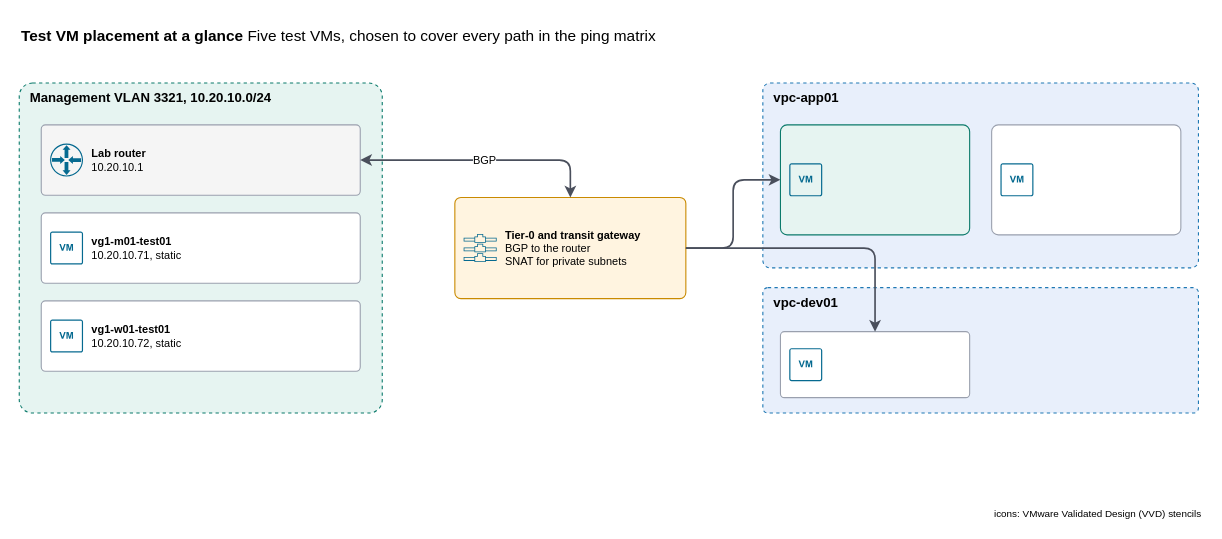
Image size: 1222x539. Some labels were removed from this diagram. The box of each missing label's shape, as (x1, y1, x2, y2) in pixels:
app-priv01 172.20.1.3, DHCP app-private: (991, 124, 1181, 235)
app-pub01 10.80.0.19, DHCP app-public: (779, 124, 970, 235)
dev-priv01 172.20.17.3, DHCP: (779, 331, 970, 398)
